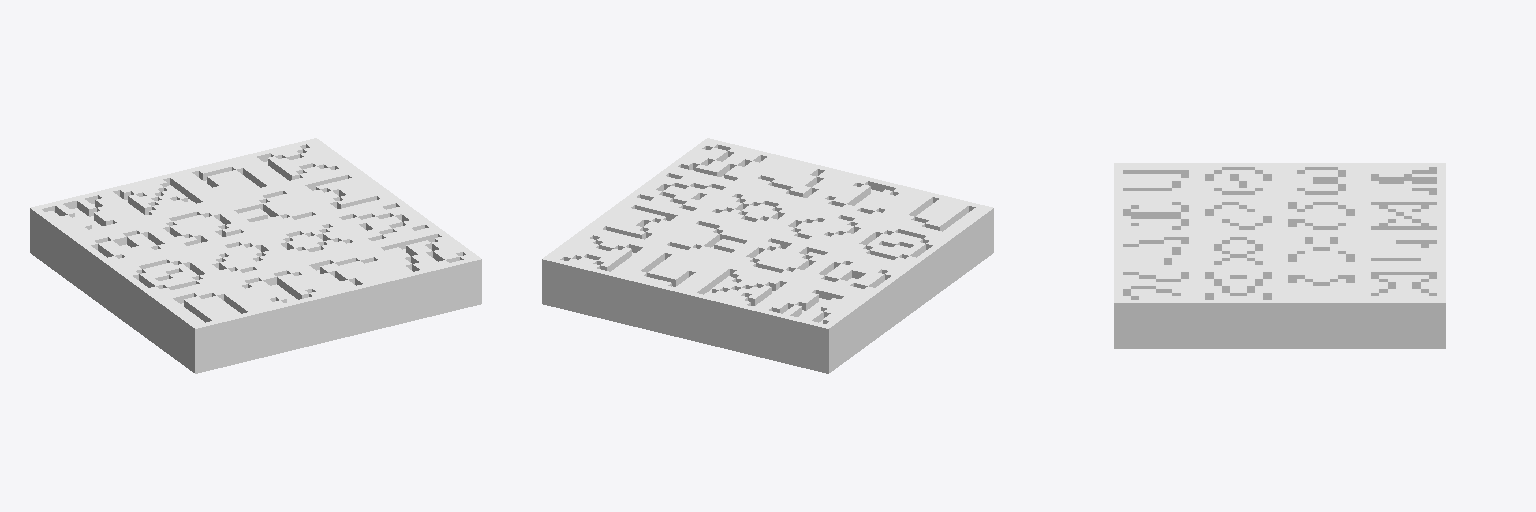
File: Groud.obj
The picture shows the model from 3 angles: view 1: azimuth 30°, elevation 25°; view 2: azimuth 150°, elevation 25°; view 3: azimuth 270°, elevation 25°; orthographic projection.
Visible parts, largest first — view 1: object 1; view 2: object 1; view 3: object 1.
Part boxes in pixels (left/top/right/bottom): object 1: left=30, top=138, right=481, bottom=373; object 1: left=542, top=138, right=993, bottom=373; object 1: left=1114, top=163, right=1445, bottom=348.
Bounding box in the file's own units: 4 × 0.6 × 4.